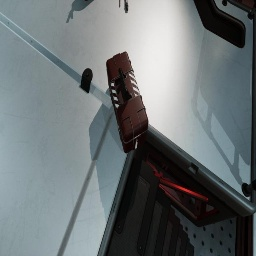FireExtinguisher ]: (84, 0, 88, 1)
FirstAidBox ,: (106, 51, 148, 154)
